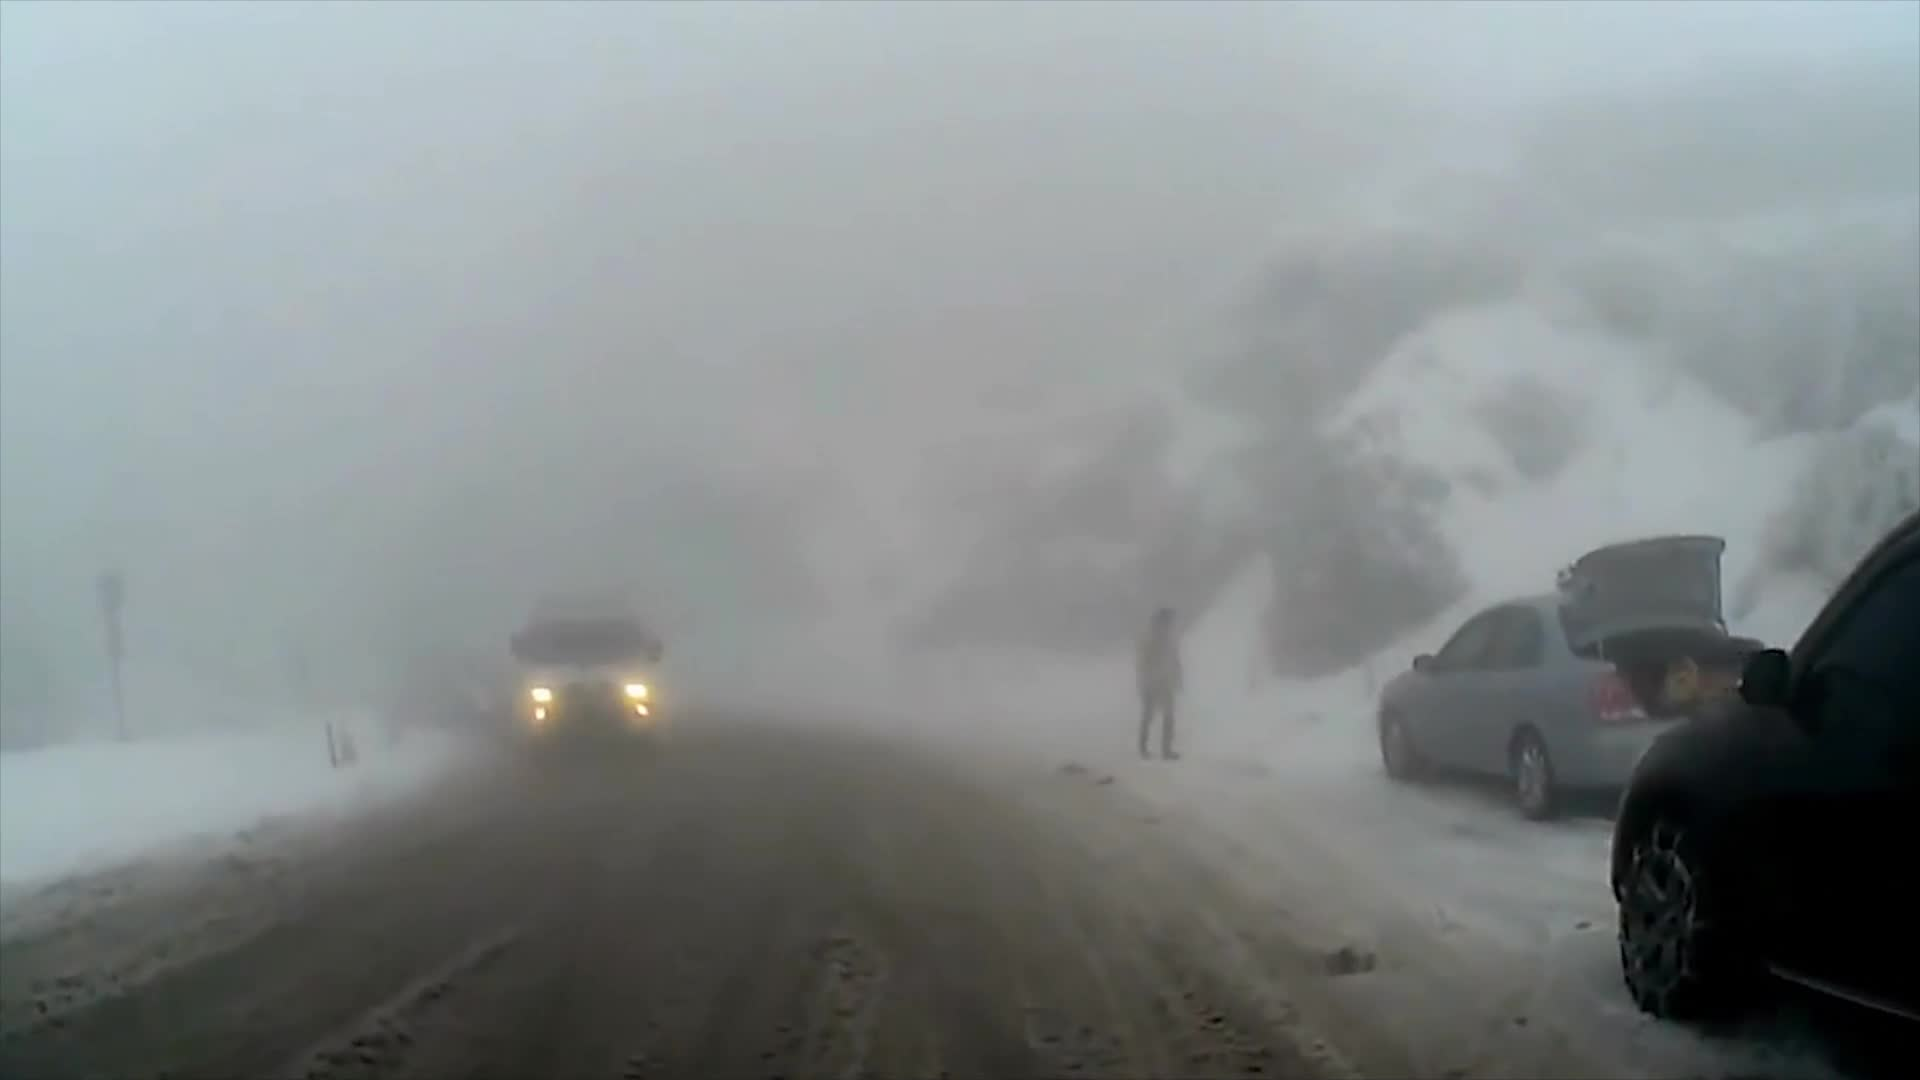pedestrian: (1131, 607, 1187, 761)
vehicle: (1609, 499, 1920, 1079), (1374, 532, 1780, 826), (505, 595, 664, 770)
